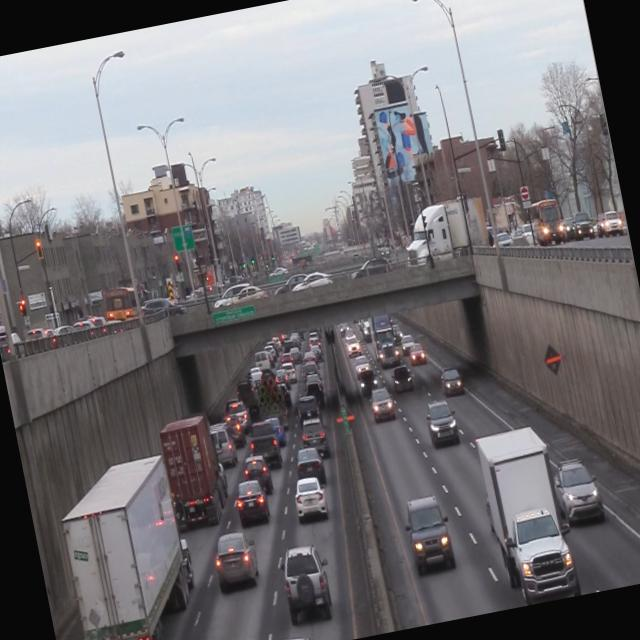Vehicle: (50, 453, 212, 640), (474, 426, 581, 608), (159, 411, 229, 528), (272, 539, 340, 630), (400, 491, 456, 575), (548, 452, 605, 532), (208, 530, 264, 602), (290, 475, 332, 526), (422, 397, 462, 449), (366, 313, 402, 369), (233, 481, 272, 528), (245, 420, 282, 468), (242, 451, 276, 498), (292, 447, 328, 484), (297, 418, 330, 458), (368, 385, 398, 426), (390, 363, 418, 396), (438, 364, 465, 398), (357, 369, 380, 399)
